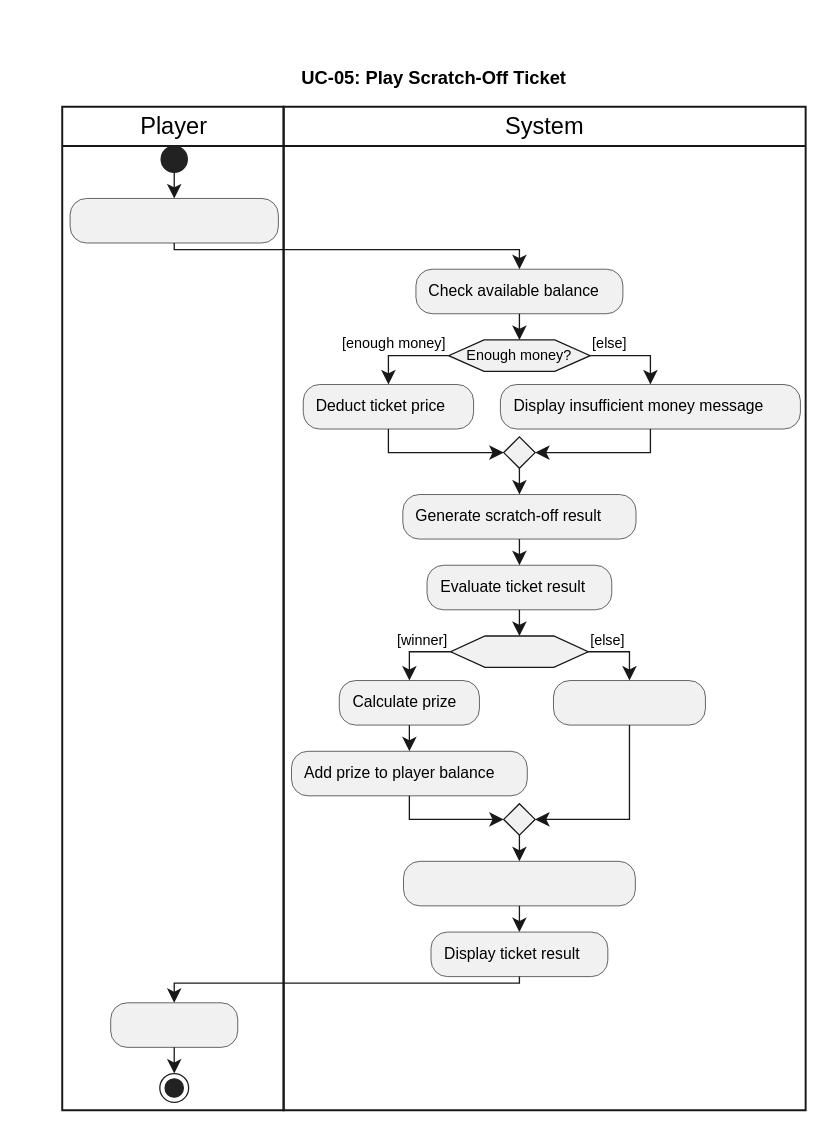
The diagram is 829 pixels wide and 1133 high, and some of its shapes have lost their labels. Here are the shapes that lost their labels. From the top down, the box of each, then its label:
(69, 198, 278, 243): Select scratch-off ticket
(449, 635, 588, 667): Winning ticket?
(553, 680, 705, 725): Set prize to zero
(403, 860, 635, 906): Save transaction and result
(110, 1002, 238, 1047): Review result
